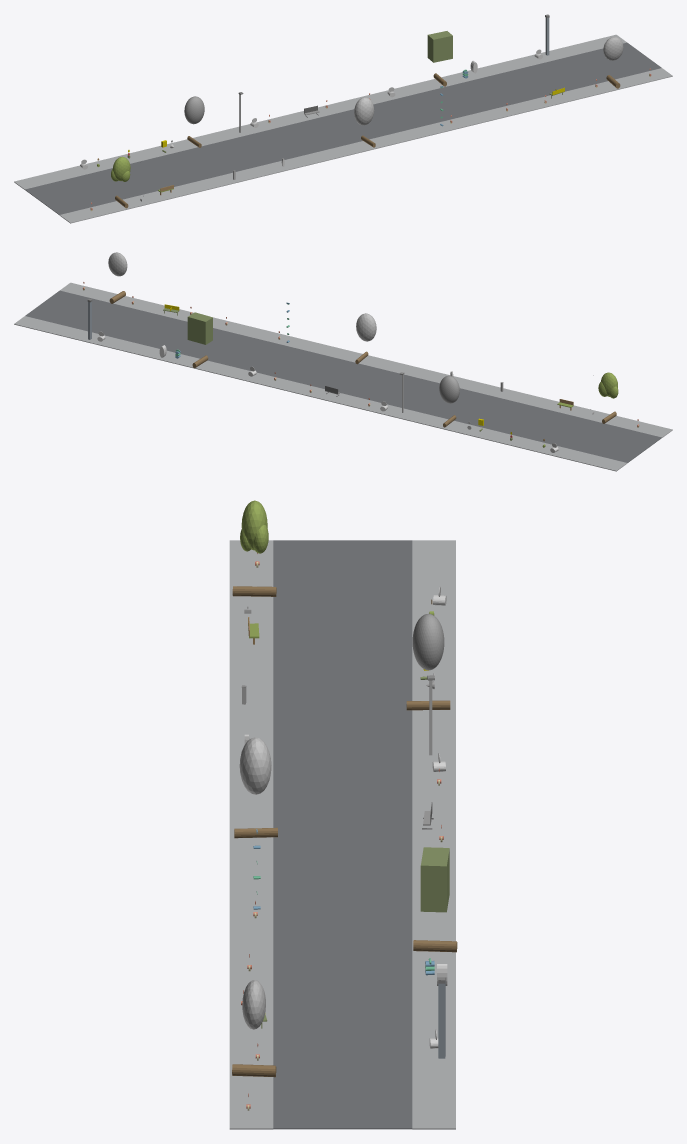
The picture shows the model from 3 angles, top to bottom: view 1: azimuth 30°, elevation 25°; view 2: azimuth 150°, elevation 25°; view 3: azimuth 270°, elevation 25°; orthographic projection. The views are drawn at different scales.
Parts seen in each view (by area): view 1: road_slab, sidewalk_left, sidewalk_right, inst_0015, inst_0014, inst_0013, inst_0016, inst_0012; view 2: road_slab, sidewalk_right, sidewalk_left, inst_0015, inst_0014, inst_0013, inst_0012, inst_0016; view 3: road_slab, sidewalk_left, sidewalk_right, inst_0015, inst_0014, inst_0013, inst_0012, inst_0016.
Part boxes in pixels (bbox=[...]): road_slab: bbox=[25, 42, 661, 214]; sidewalk_left: bbox=[59, 68, 672, 223]; sidewalk_right: bbox=[14, 34, 626, 189]; inst_0015: bbox=[427, 31, 452, 86]; inst_0014: bbox=[354, 97, 375, 147]; inst_0013: bbox=[184, 96, 204, 147]; inst_0016: bbox=[603, 37, 623, 88]; inst_0012: bbox=[111, 156, 130, 208]; road_slab: bbox=[25, 290, 661, 462]; sidewalk_right: bbox=[14, 316, 627, 471]; sidewalk_left: bbox=[60, 282, 672, 437]; inst_0015: bbox=[187, 312, 212, 368]; inst_0014: bbox=[355, 313, 376, 364]; inst_0013: bbox=[439, 375, 459, 427]; inst_0012: bbox=[598, 372, 618, 423]; inst_0016: bbox=[108, 252, 127, 303]; road_slab: bbox=[273, 540, 412, 1129]; sidewalk_left: bbox=[229, 540, 273, 1129]; sidewalk_right: bbox=[412, 540, 455, 1129]; inst_0015: bbox=[413, 847, 457, 952]; inst_0014: bbox=[234, 737, 277, 838]; inst_0013: bbox=[406, 613, 450, 710]; inst_0012: bbox=[232, 500, 276, 596]; inst_0016: bbox=[232, 980, 276, 1077].
Size of the model in its own units: 80 by 6.08 by 13.08.
